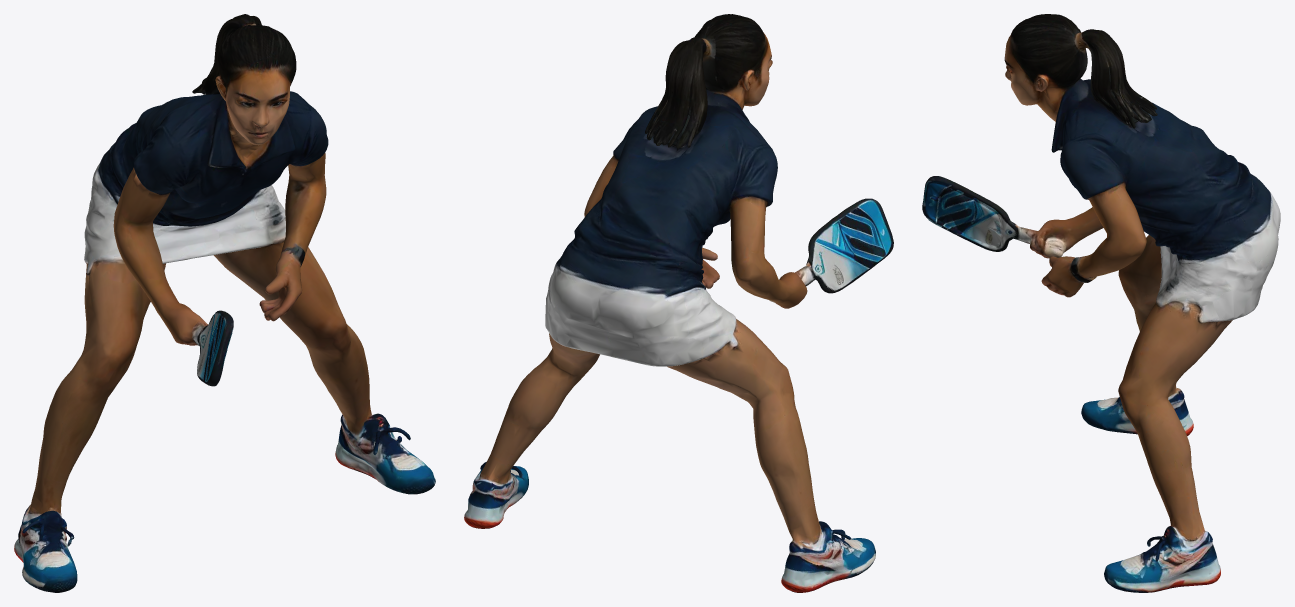
Rendered from player_b.glb.
3 views of the same model, side by side, from view 1: azimuth 30°, elevation 25°; view 2: azimuth 150°, elevation 25°; view 3: azimuth 270°, elevation 25° (orthographic). The views are drawn at different scales.
Visible parts, largest first — view 1: tripo_node_9bc8a4ae-a258-4141-9145-4cf408231bd8; view 2: tripo_node_9bc8a4ae-a258-4141-9145-4cf408231bd8; view 3: tripo_node_9bc8a4ae-a258-4141-9145-4cf408231bd8.
Boxes of the visible parts, x1,y1,x2,y2 form: tripo_node_9bc8a4ae-a258-4141-9145-4cf408231bd8: [14, 14, 435, 592]; tripo_node_9bc8a4ae-a258-4141-9145-4cf408231bd8: [464, 14, 893, 592]; tripo_node_9bc8a4ae-a258-4141-9145-4cf408231bd8: [922, 14, 1280, 592].
Size of the model in its own units: 0.798 by 0.9998 by 0.6741.
Materials: 1 (1 with a texture image).
